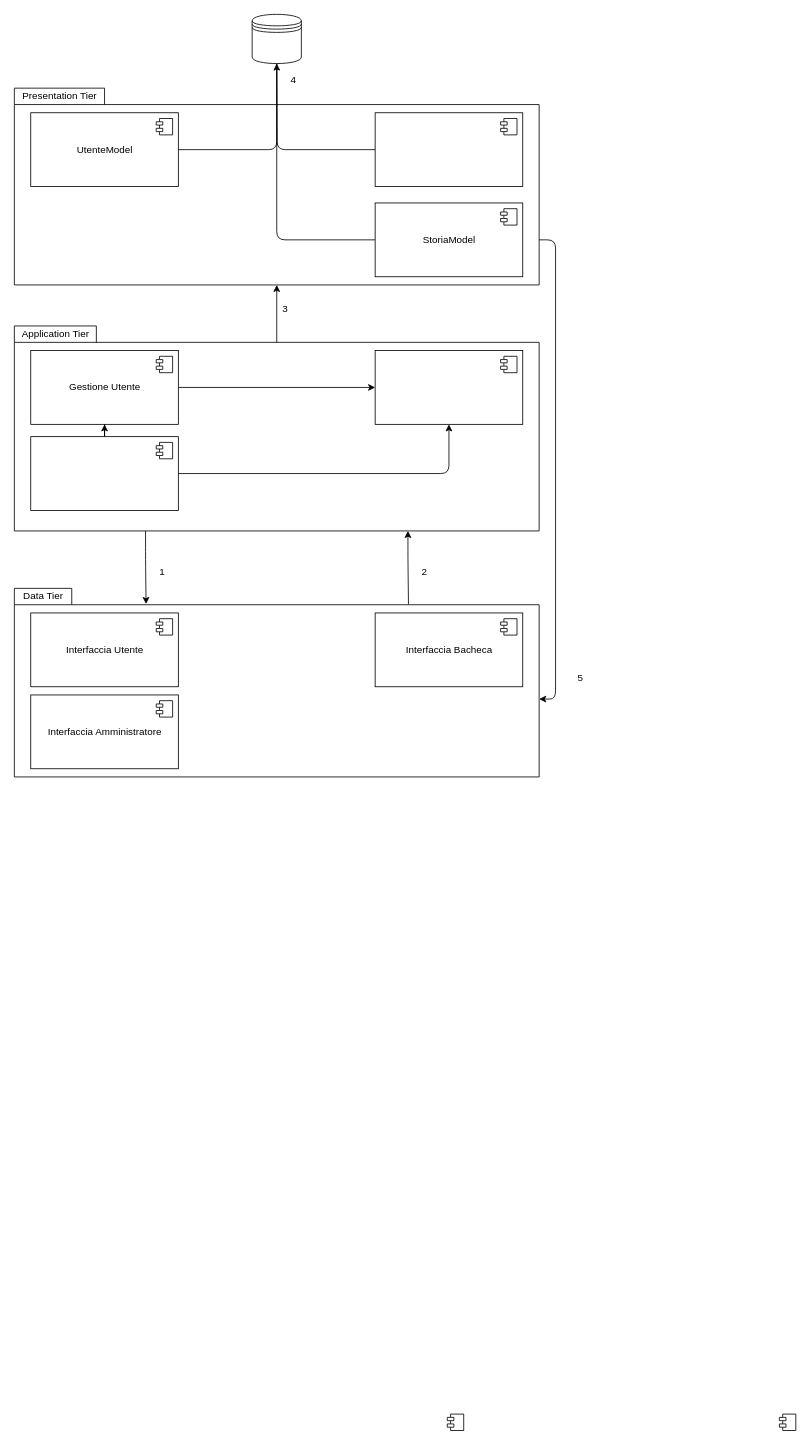
Image size: 810x1445. Some labels were removed from this diagram. Each missing label, with the box of its shape:
CommentiModel: (374, 112, 523, 187)
Gestione Amministrativa: (30, 436, 178, 510)
Gestione Storie: (374, 350, 523, 424)
